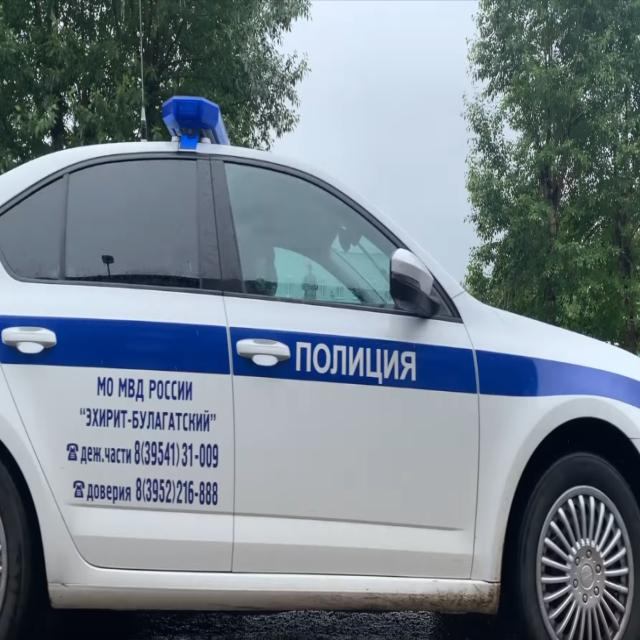police car: (1, 80, 639, 640)
